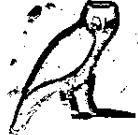Owl: (7, 1, 127, 133)
